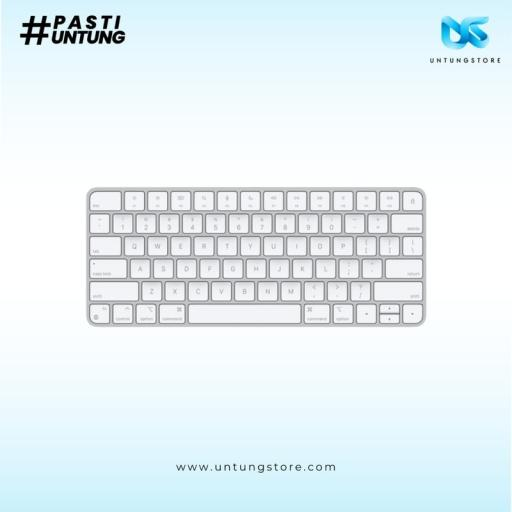KEYBOARD-2: (87, 187, 426, 327)
